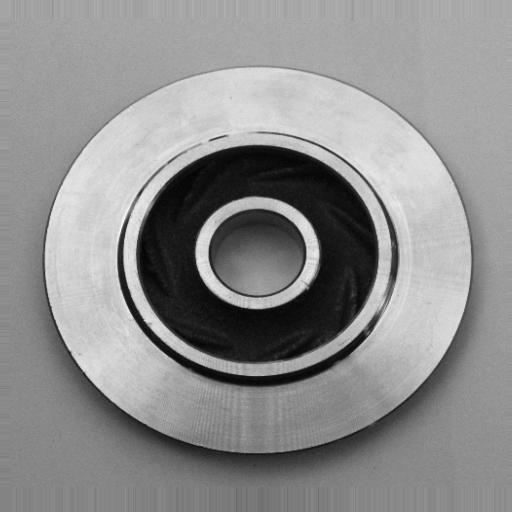scratch: (282, 268, 329, 306)
unpolished_casting: (43, 64, 476, 462)
